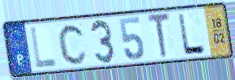3: (90, 18, 116, 66)
5: (118, 15, 146, 62)
C: (57, 23, 89, 67)
L: (176, 12, 208, 56), (29, 25, 59, 70)
T: (146, 11, 172, 61)
